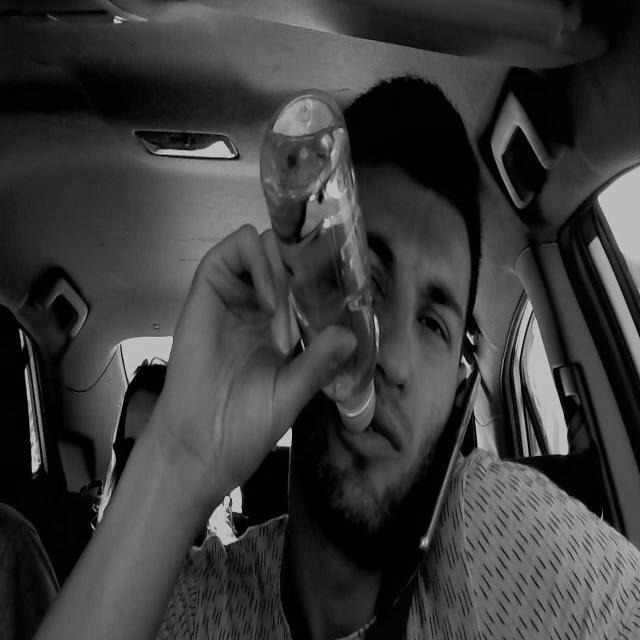Drinking: (257, 86, 380, 426)
Phone: (414, 360, 482, 550)
